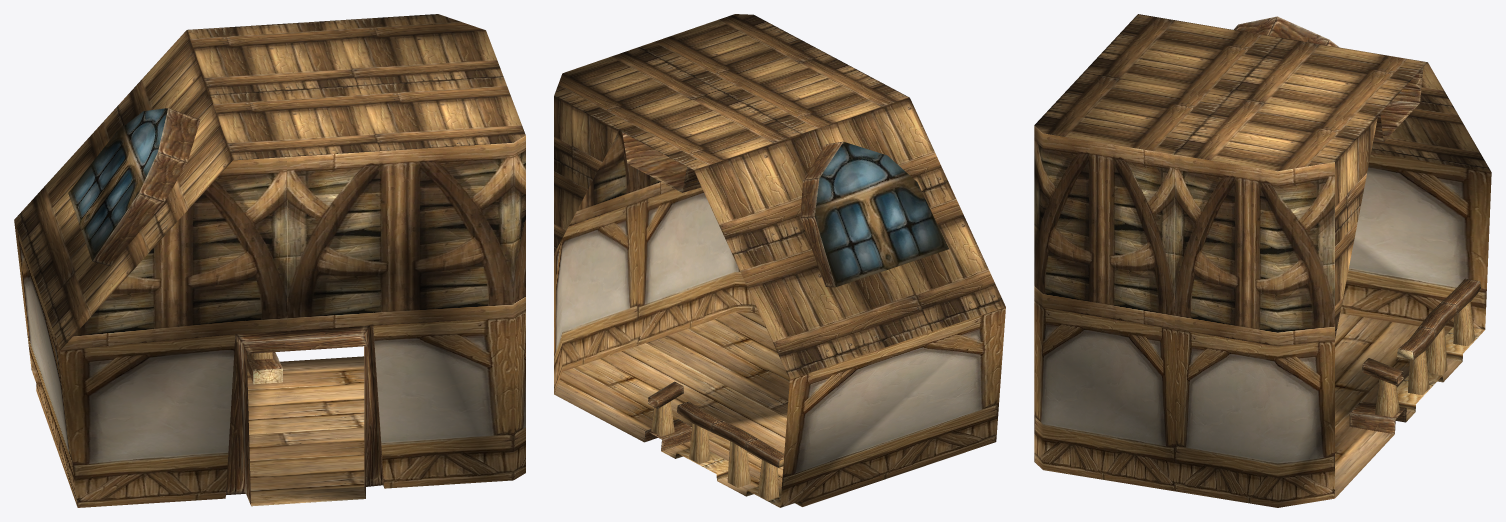
The model's file is stormwind_272.fbx.
3 renders of one model, left to right at view 1: azimuth 30°, elevation 25°; view 2: azimuth 150°, elevation 25°; view 3: azimuth 270°, elevation 25°, orthographic. The views are drawn at different scales.
Parts seen in each view (by area): view 1: stormwind_272_49, stormwind_272_55, stormwind_272_48, stormwind_272_51, stormwind_272_53, stormwind_272_84, stormwind_272_54; view 2: stormwind_272_55, stormwind_272_48, stormwind_272_51, stormwind_272_84, stormwind_272_53, stormwind_272_49, stormwind_272_54; view 3: stormwind_272_48, stormwind_272_49, stormwind_272_55, stormwind_272_53, stormwind_272_51, stormwind_272_54.
Part boxes in pixels (bbox=[...]): stormwind_272_49: bbox=[61, 135, 525, 350]; stormwind_272_55: bbox=[14, 14, 525, 349]; stormwind_272_48: bbox=[14, 221, 525, 507]; stormwind_272_51: bbox=[247, 356, 365, 506]; stormwind_272_53: bbox=[92, 108, 384, 504]; stormwind_272_84: bbox=[68, 108, 168, 260]; stormwind_272_54: bbox=[252, 352, 282, 384]; stormwind_272_55: bbox=[554, 14, 1005, 379]; stormwind_272_48: bbox=[554, 187, 1005, 507]; stormwind_272_51: bbox=[554, 312, 789, 496]; stormwind_272_84: bbox=[814, 141, 948, 286]; stormwind_272_53: bbox=[622, 132, 842, 507]; stormwind_272_49: bbox=[569, 130, 674, 225]; stormwind_272_54: bbox=[651, 401, 783, 500]; stormwind_272_48: bbox=[1034, 152, 1491, 507]; stormwind_272_49: bbox=[1034, 125, 1334, 346]; stormwind_272_55: bbox=[1034, 14, 1491, 338]; stormwind_272_53: bbox=[1233, 16, 1484, 434]; stormwind_272_51: bbox=[1335, 313, 1462, 497]; stormwind_272_54: bbox=[1375, 302, 1474, 417].
Size of the model in its own units: 12.18 by 8.49 by 10.43.
